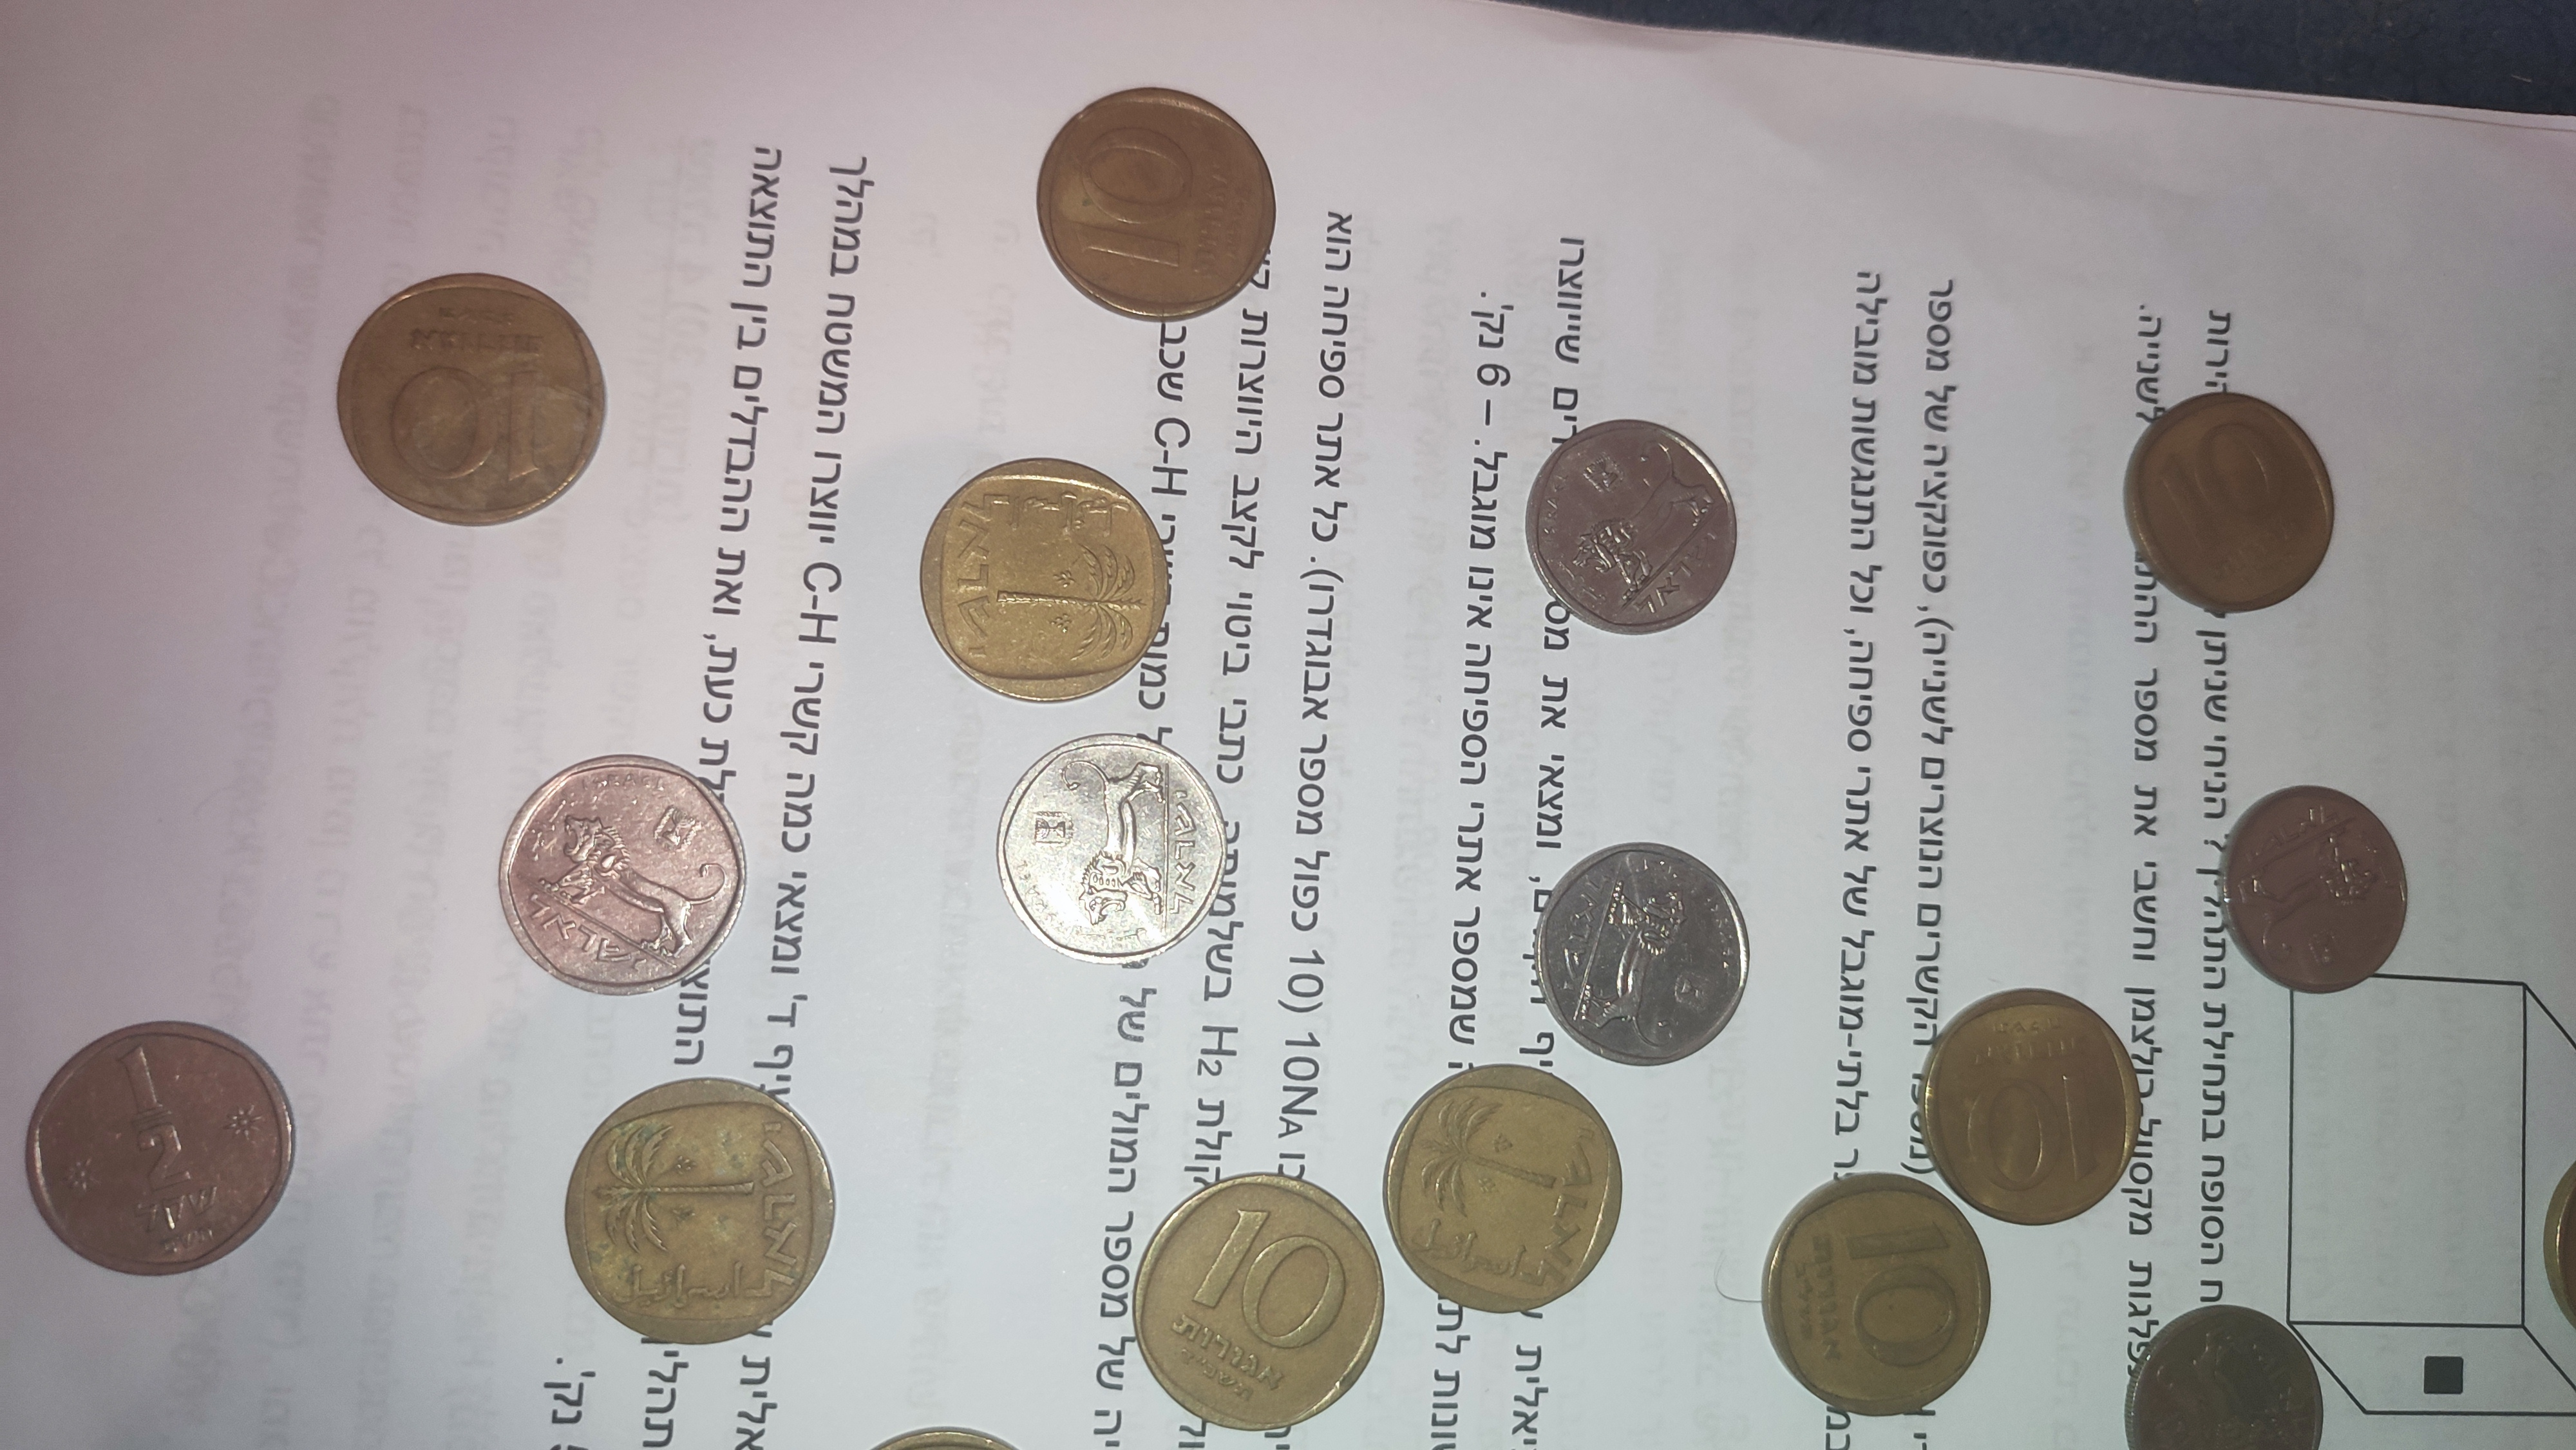1/2 old sheqel: (21, 1015, 297, 1278), (492, 748, 752, 999), (996, 730, 1231, 969), (1529, 838, 1755, 1070), (1523, 417, 1743, 640), (2217, 783, 2413, 999), (2123, 1303, 2327, 1450)
10 old agora brown: (559, 1072, 839, 1351), (1123, 1165, 1391, 1434), (334, 272, 609, 529), (916, 454, 1175, 709), (1380, 1061, 1628, 1319), (1033, 85, 1281, 325), (1755, 1171, 1994, 1420), (1914, 987, 2146, 1227), (2118, 389, 2339, 615)
